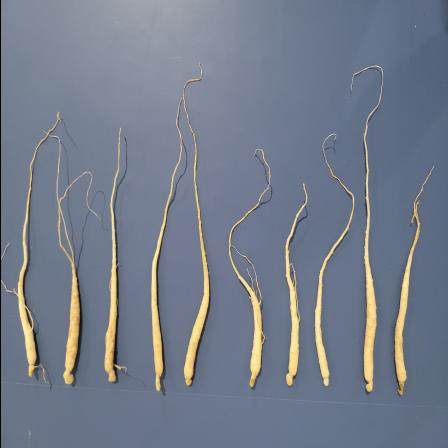Ginseng: (0, 109, 59, 380), (227, 146, 271, 397), (312, 129, 354, 391), (55, 140, 99, 388), (390, 162, 434, 398), (149, 96, 182, 394), (181, 64, 210, 392), (356, 61, 384, 394), (103, 126, 127, 384), (282, 183, 307, 391)
head: (62, 362, 74, 386), (248, 368, 260, 390), (284, 365, 296, 387), (26, 356, 38, 377), (154, 367, 164, 392), (104, 364, 116, 382), (363, 374, 373, 392), (182, 370, 192, 386), (321, 371, 329, 387)
